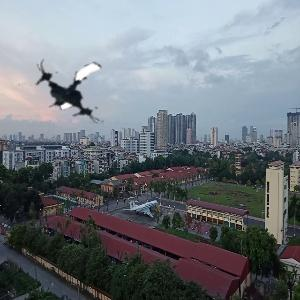drone: (31, 49, 116, 134)
